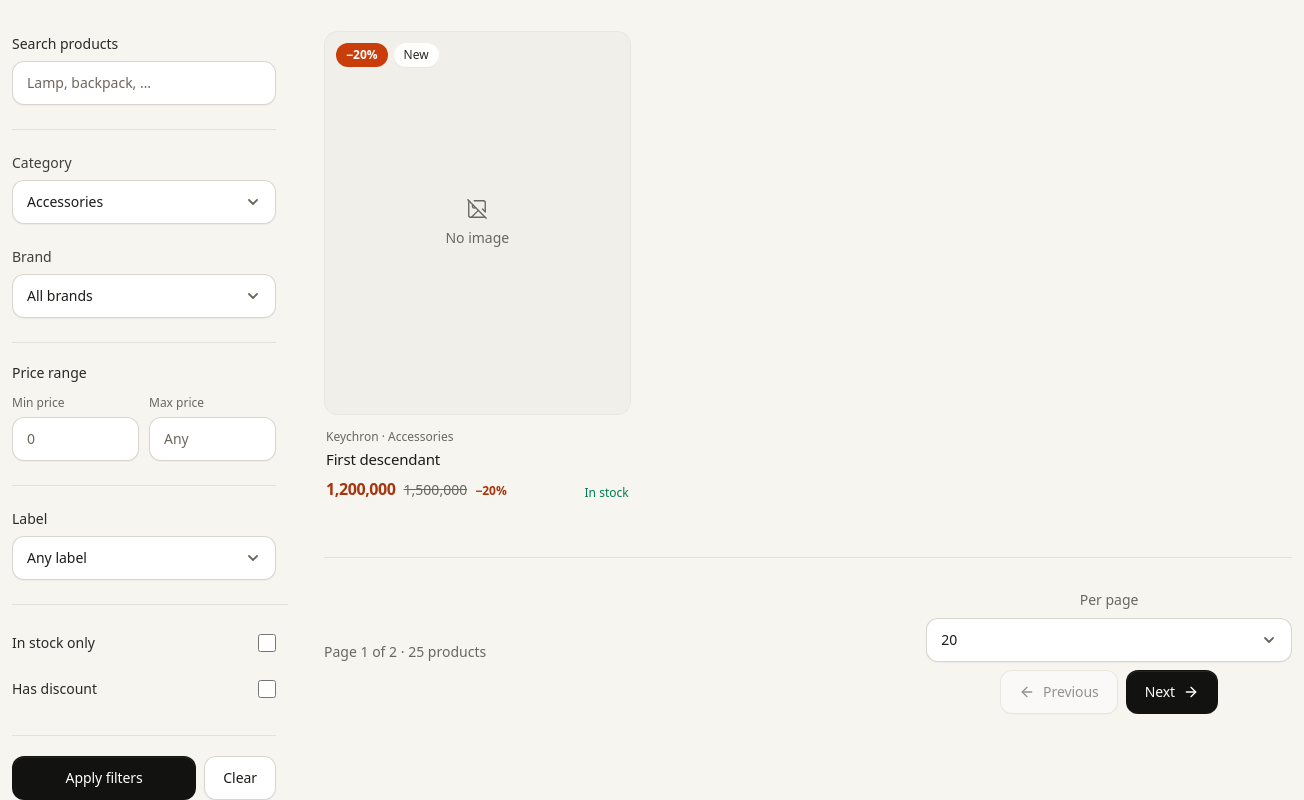
Test: ProductList › keeps a parent category in the URL across pages and switches to a selected child
This screenshot has width=1304, height=800.
(page scrolled)
Expected: the heading "First descendant" is shown, [326, 448, 440, 468]
Click the button "Next". click: (1172, 692)
box: [1126, 670, 1218, 714]
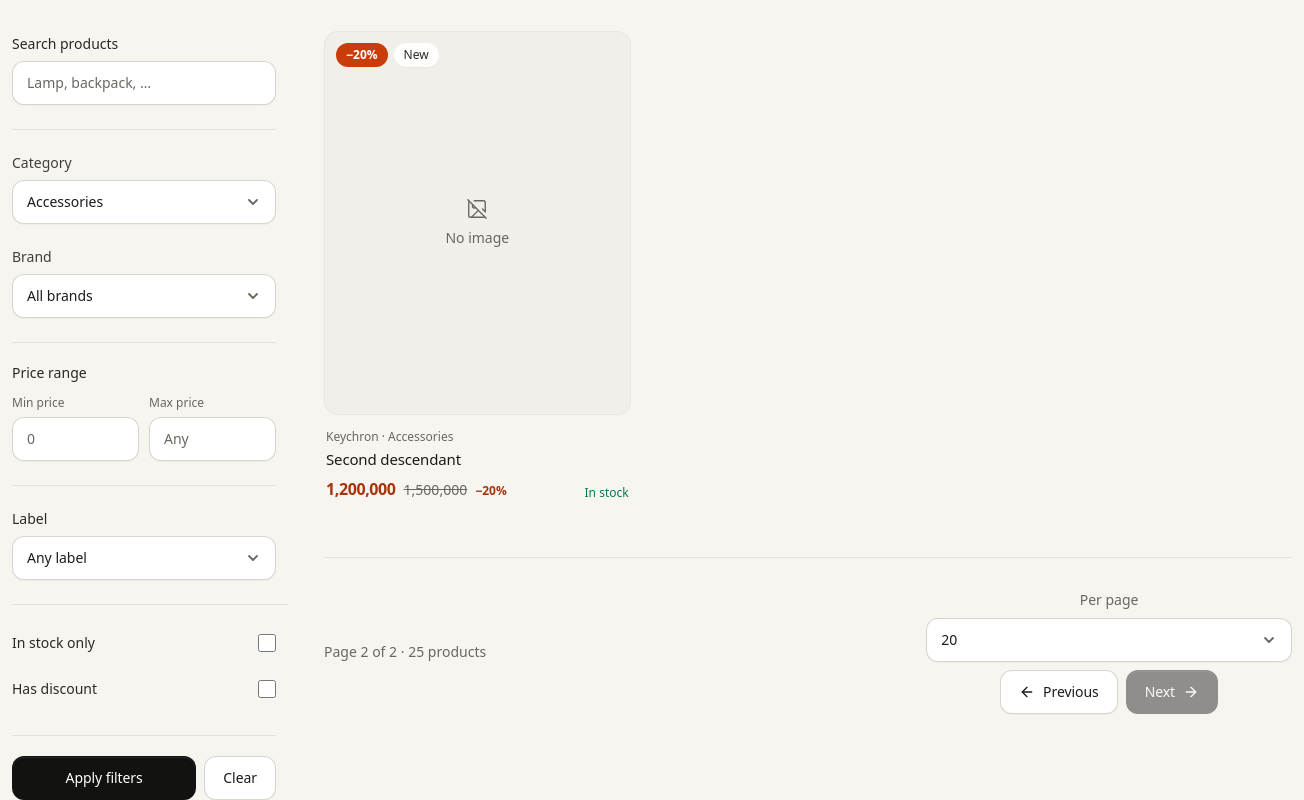
Expected: the heading "Second descendant" is shown, [326, 448, 461, 468]
Select "Accessories / Keyboards" in the dropdown labelled "Category". click: (144, 202)
box: [12, 180, 276, 224]
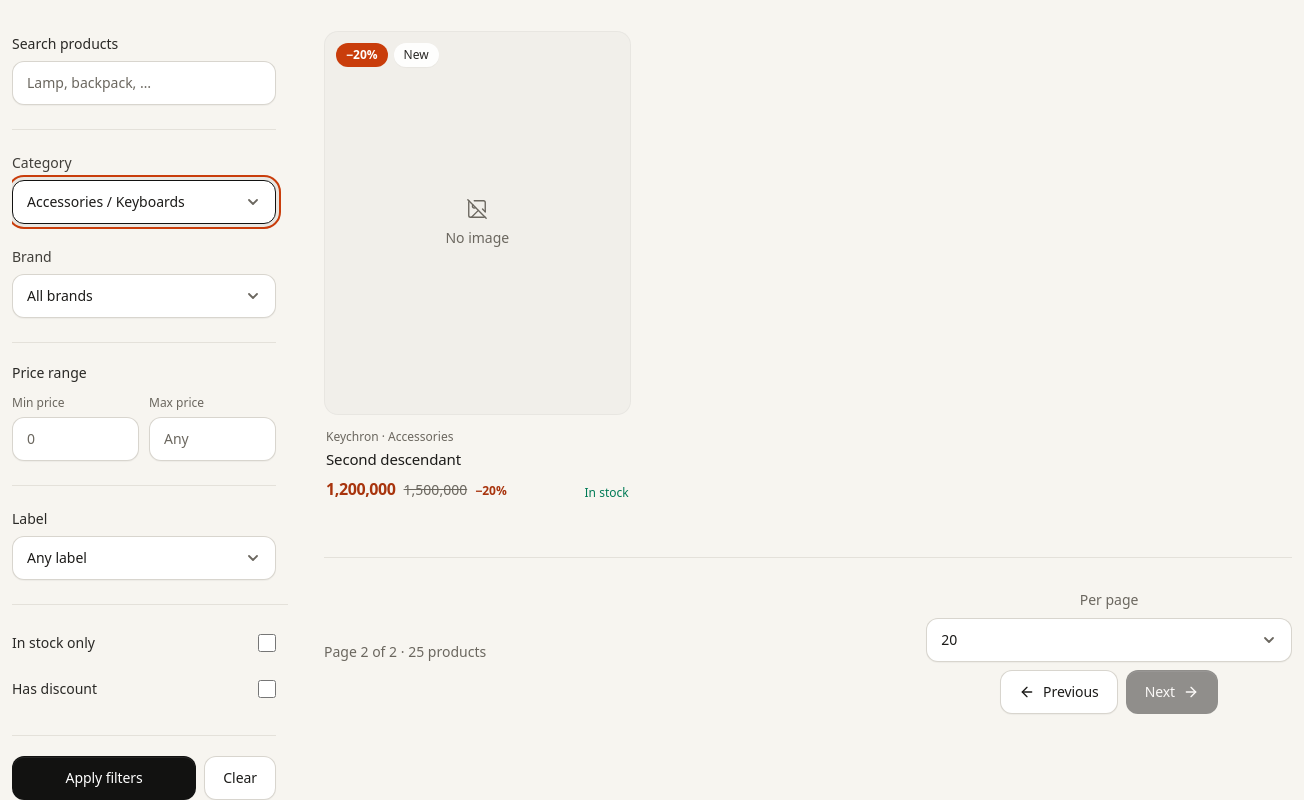
Click the button "Apply filters". click: (104, 778)
box: [12, 756, 196, 799]
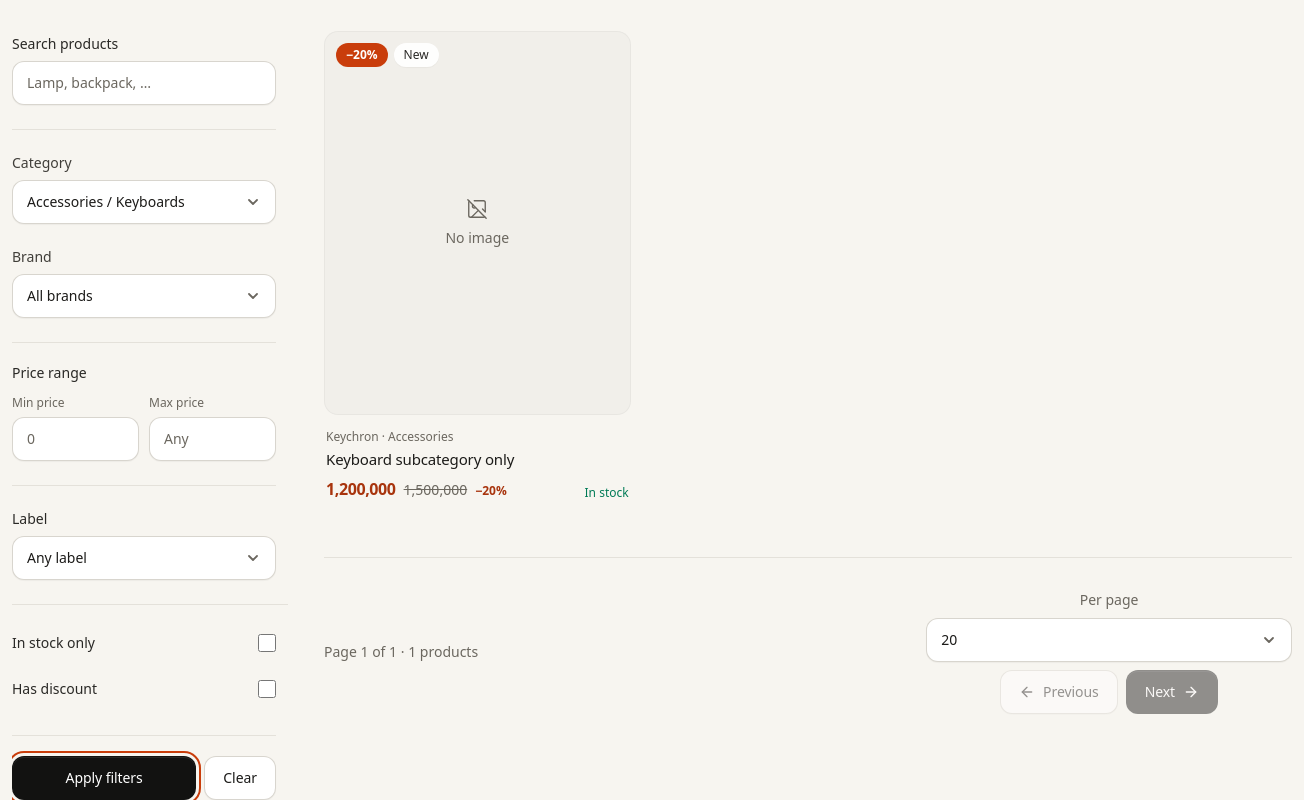
Expected: the heading "Keyboard subcategory only" is shown, [326, 448, 514, 468]
